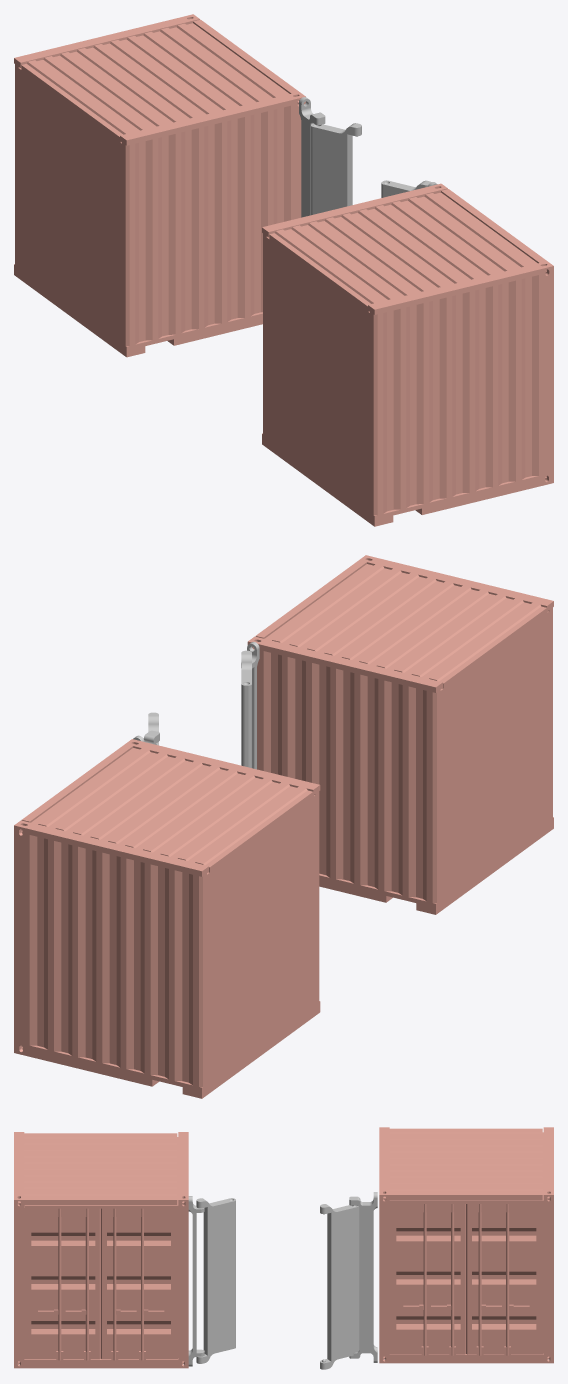
Rendered from ShippingContainerWall v10.glb.
The picture shows the model from 3 angles, top to bottom: view 1: azimuth 30°, elevation 25°; view 2: azimuth 150°, elevation 25°; view 3: azimuth 270°, elevation 25°; orthographic projection. The views are drawn at different scales.
Parts seen in each view (by area): view 1: Body1, Body1.003, Body1.004, Body2; view 2: Body1.003, Body1, Body1.002, Body1.001; view 3: Body1, Body1.003, Body1.002, Body1.004, Body2, Body1.001.
Part boxes in pixels (x1,y1,x2,y2): Body1: [262, 183, 553, 526]; Body1.003: [14, 14, 305, 357]; Body1.004: [311, 123, 361, 215]; Body2: [299, 97, 325, 217]; Body1.003: [14, 739, 320, 1098]; Body1: [247, 555, 553, 914]; Body1.002: [241, 650, 251, 767]; Body1.001: [241, 642, 259, 769]; Body1: [14, 1132, 188, 1368]; Body1.003: [379, 1127, 553, 1363]; Body1.002: [196, 1198, 235, 1363]; Body1.004: [320, 1204, 359, 1369]; Body2: [349, 1192, 377, 1362]; Body1.001: [188, 1196, 204, 1366].
Bounding box in the file's own units: 0.1127 × 0.1184 × 0.3414.
